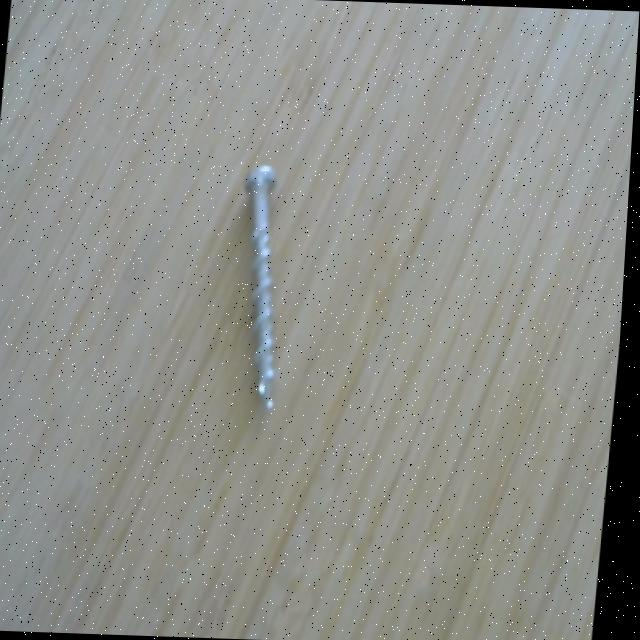Medium screw: (239, 157, 291, 420)
